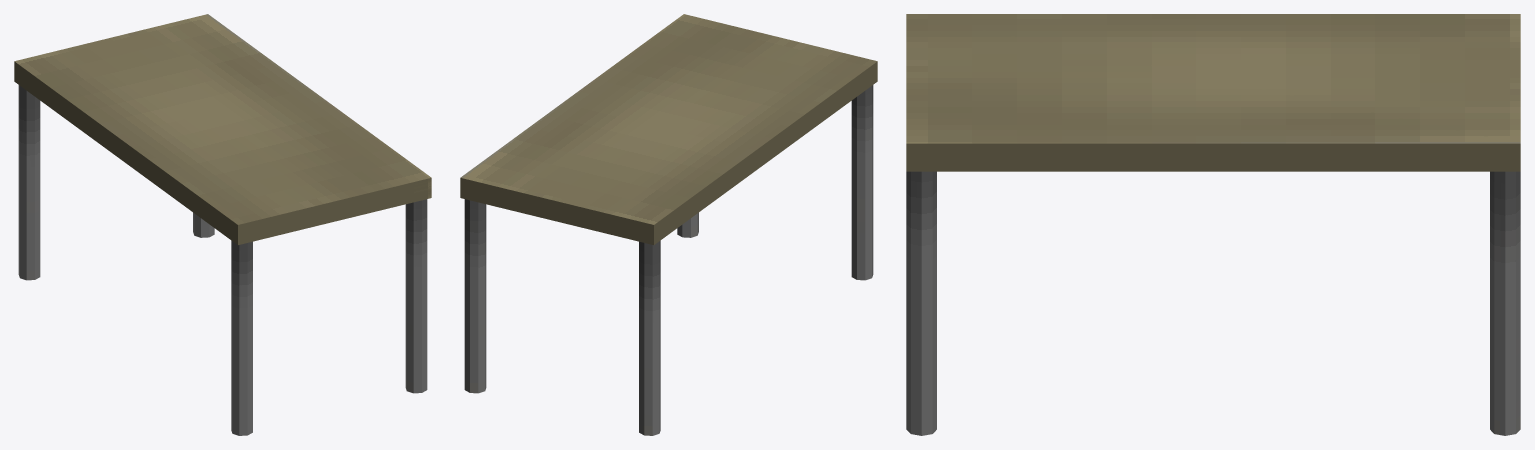
File: table.fbx
The picture shows the model from 3 angles, left to right: view 1: azimuth 30°, elevation 25°; view 2: azimuth 150°, elevation 25°; view 3: azimuth 270°, elevation 25°; orthographic projection. The views are drawn at different scales.
Visible parts, largest first — view 1: table leg.002; view 2: table leg.002; view 3: table leg.002.
Part boxes in pixels (box(x1,y1,x2,y2)): table leg.002: box(14, 14, 431, 435); table leg.002: box(460, 14, 877, 435); table leg.002: box(906, 14, 1520, 435).
Bounding box in the file's own units: 100 × 105 × 200.
Materials: 1 (1 with a texture image).
